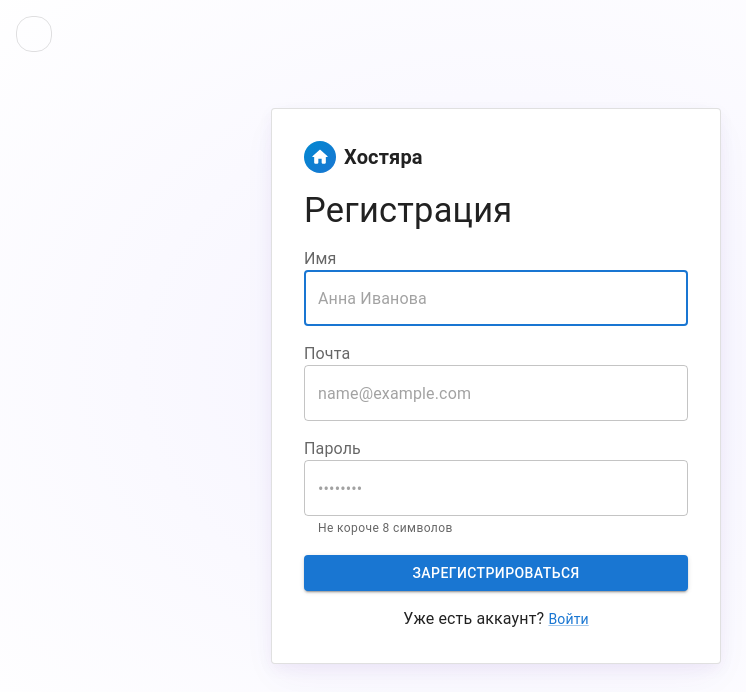
Test: SessionGate › opens the sign-up form on /signup and switches back to /login keeping _from
The image size is (746, 692).
Expected: the heading "Регистрация" is shown, [304,190,512,230]
Click the link "Войти": [569, 619] box [548,611,589,627]
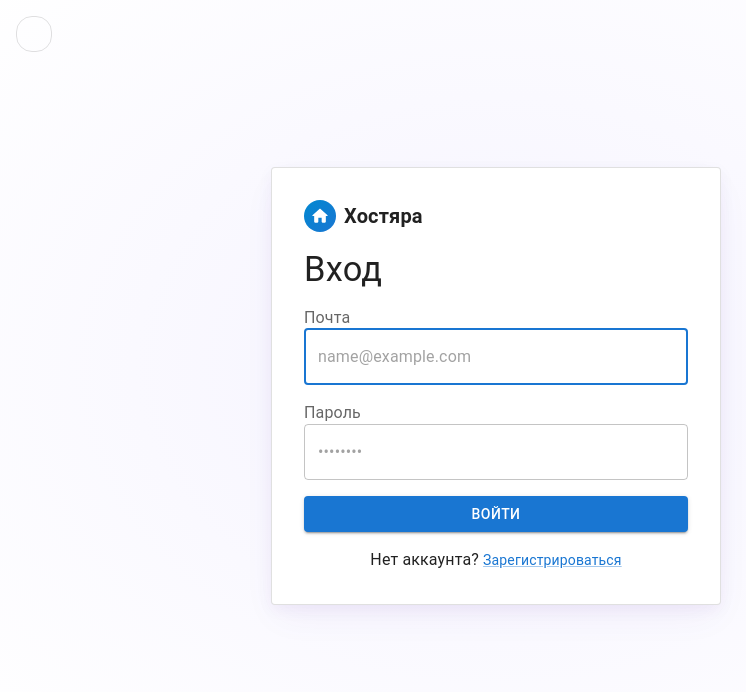
Result: the heading "Вход" is shown at [304,248,382,288]
